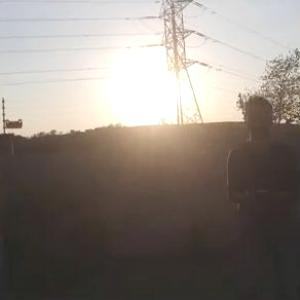follow: (220, 91, 299, 299)
